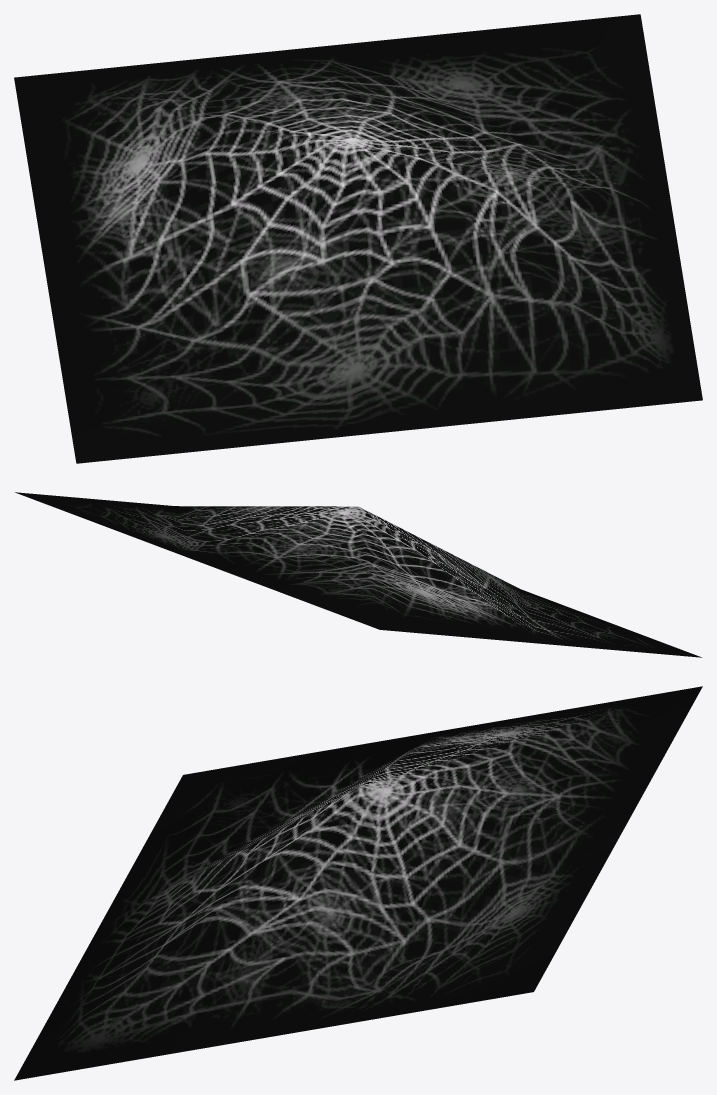
Rendered from MIRKWOOD_PLANE09.fbx.
The picture shows the model from 3 angles, top to bottom: view 1: azimuth 30°, elevation 25°; view 2: azimuth 150°, elevation 25°; view 3: azimuth 270°, elevation 25°; orthographic projection. The views are drawn at different scales.
Visible parts, largest first — view 1: MIRKWOOD_PLANE09; view 2: MIRKWOOD_PLANE09; view 3: MIRKWOOD_PLANE09.
Part boxes in pixels (x1=…): MIRKWOOD_PLANE09: x1=14, y1=14, x2=702, y2=463; MIRKWOOD_PLANE09: x1=15, y1=492, x2=701, y2=657; MIRKWOOD_PLANE09: x1=14, y1=686, x2=702, y2=1080.
Bounding box in the file's own units: 141813 × 33889 × 107307.
1 material, 1 textured.
